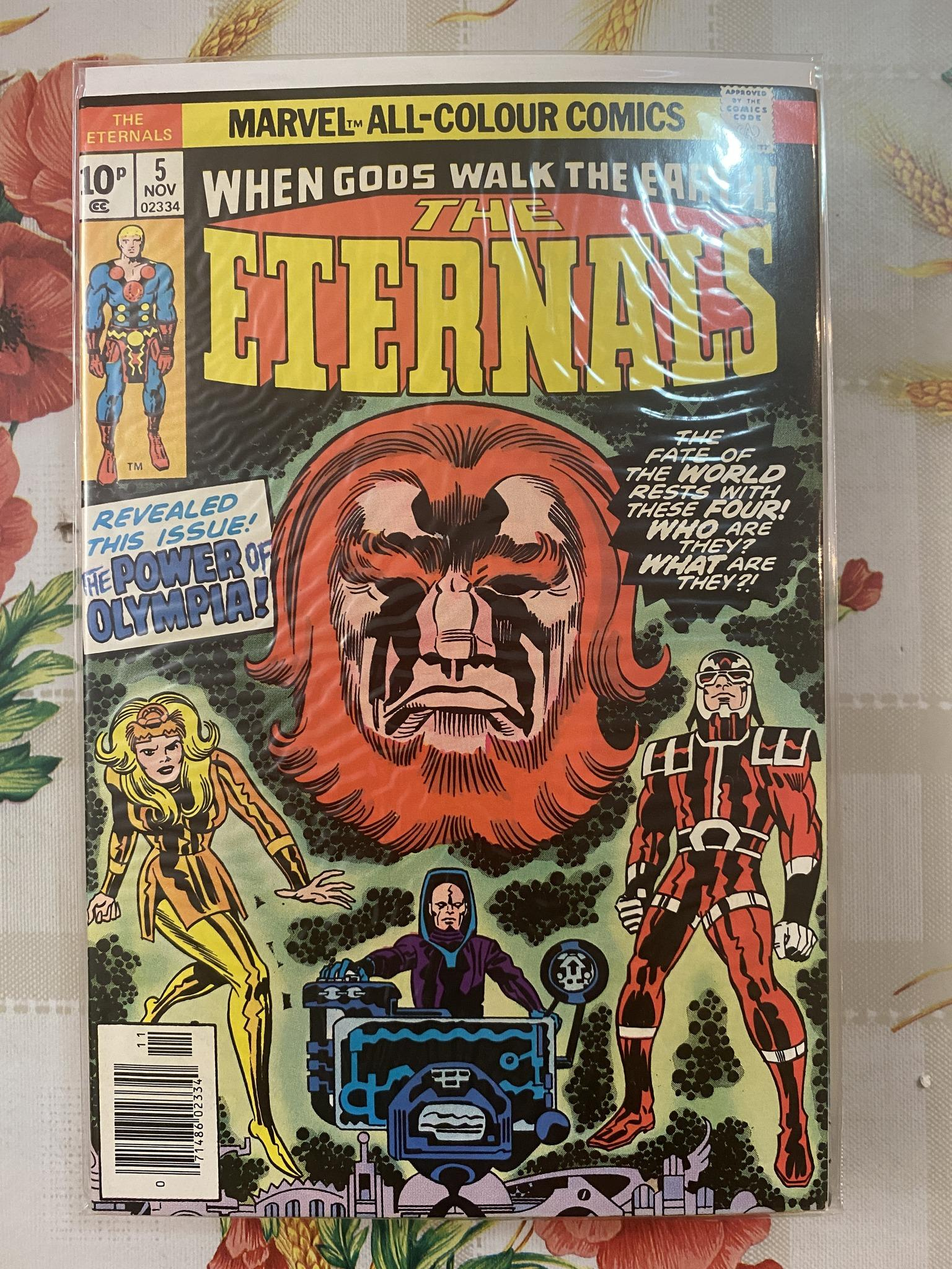comic: (74, 51, 834, 1223)
